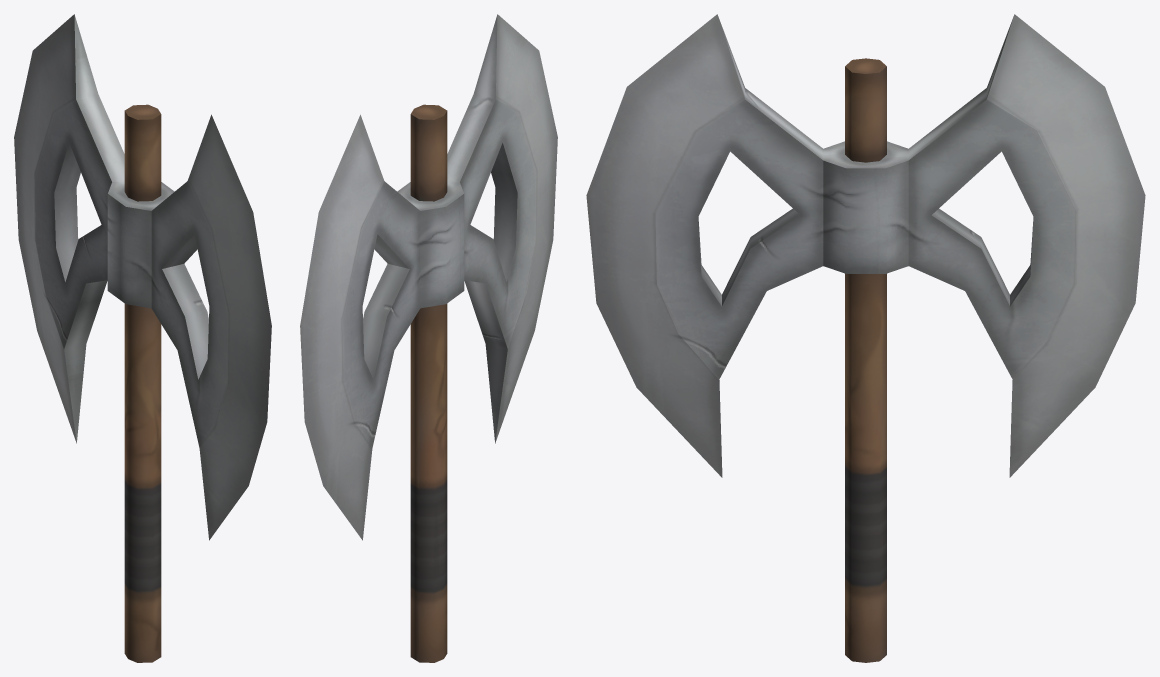
File: axe.glb
3 renders of one model, left to right at view 1: azimuth 30°, elevation 25°; view 2: azimuth 150°, elevation 25°; view 3: azimuth 270°, elevation 25°, orthographic. The views are drawn at different scales.
Visible parts, largest first — view 1: axe_2.001_Plane.011; view 2: axe_2.001_Plane.011; view 3: axe_2.001_Plane.011.
Boxes of the visible parts, x1,y1,x2,y2 form: axe_2.001_Plane.011: (14,14,271,662); axe_2.001_Plane.011: (300,14,557,662); axe_2.001_Plane.011: (586,14,1145,662).
Size of the model in its own units: 0.2354 by 2.54 by 2.01.
1 material, 1 textured.
